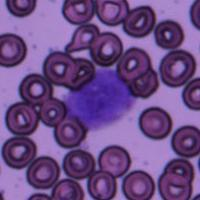E: (66, 67, 135, 131)
